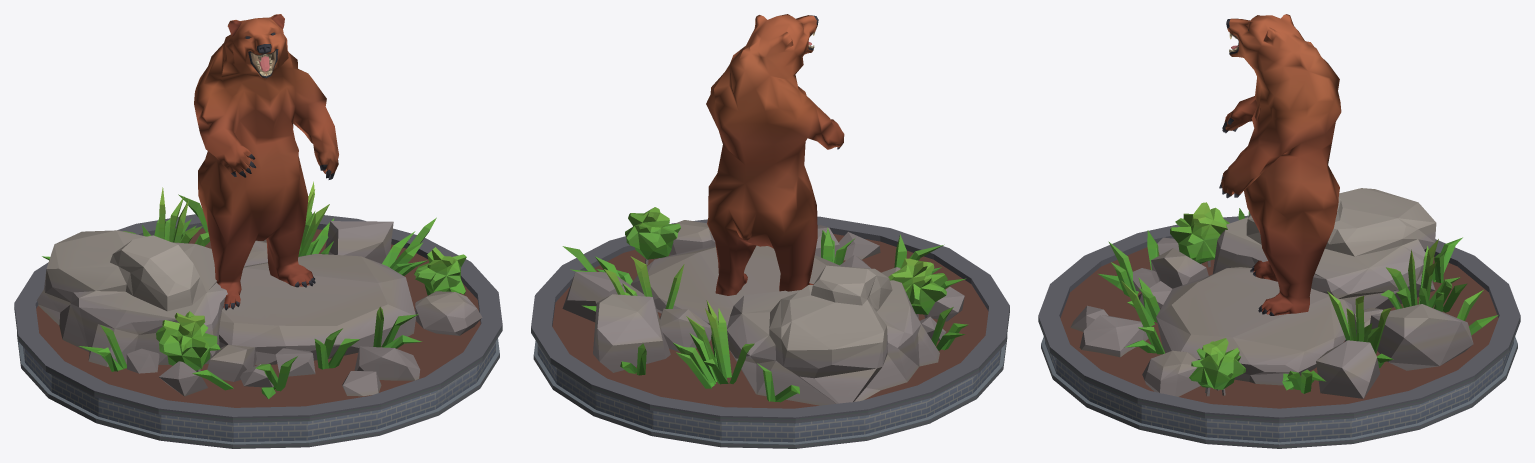
Rendered from Bear Statue.fbx.
The picture shows the model from 3 angles, left to right: view 1: azimuth 30°, elevation 25°; view 2: azimuth 150°, elevation 25°; view 3: azimuth 270°, elevation 25°; orthographic projection.
Visible parts, largest first — view 1: Bear_Statue; view 2: Bear_Statue; view 3: Bear_Statue.
Boxes of the visible parts, x1,y1,x2,y2 form: Bear_Statue: [14, 14, 502, 448]; Bear_Statue: [531, 14, 1009, 448]; Bear_Statue: [1038, 14, 1520, 448].
Bounding box in the file's own units: 249 × 187 × 249.
